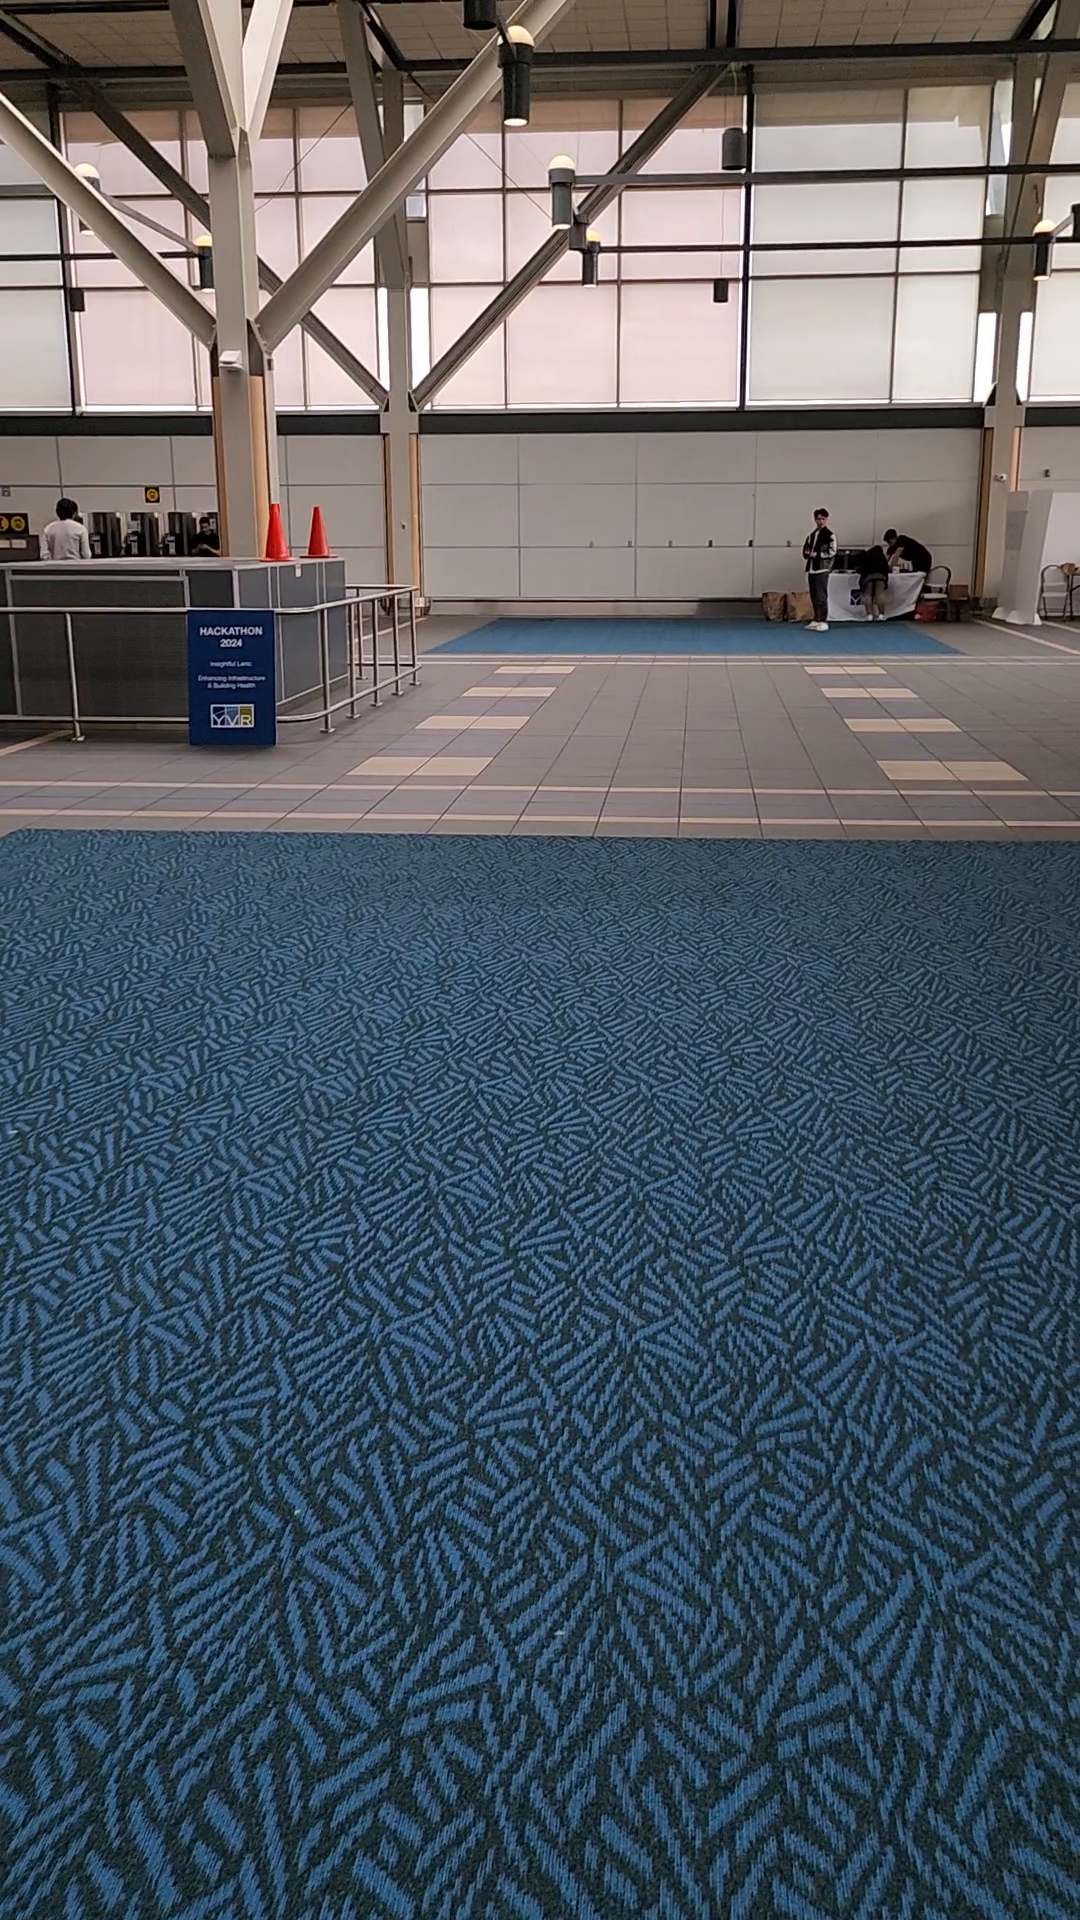Garbage: (542, 1615, 593, 1650), (276, 1493, 318, 1522), (3, 1114, 29, 1145)
